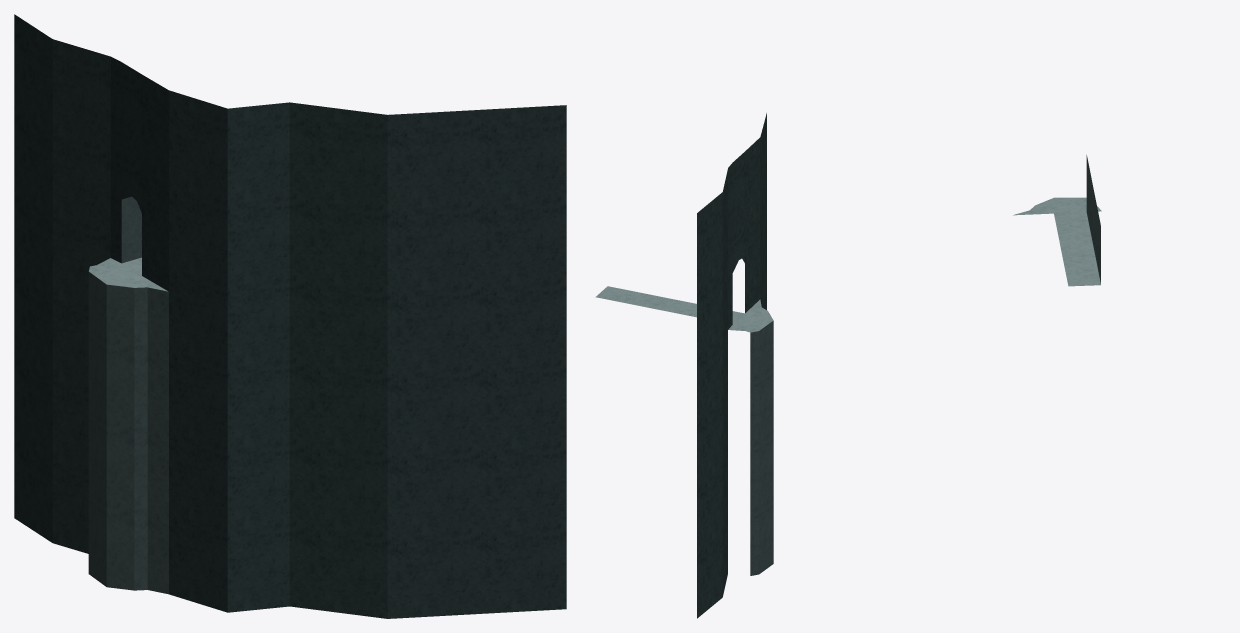
The model's file is mountain_cart_end.gltf.
3 views of the same model, side by side, from view 1: azimuth 30°, elevation 25°; view 2: azimuth 150°, elevation 25°; view 3: azimuth 270°, elevation 25° (orthographic). The views are drawn at different scales.
Parts seen in each view (by area): view 1: root; view 2: root; view 3: root.
Boxes of the visible parts, x1,y1,x2,y2 form: root: (14, 14, 566, 618); root: (595, 113, 773, 618); root: (1013, 155, 1101, 286).
Bounding box in the file's own units: 61.95 × 92.51 × 77.02.
Materials: 3 (3 with a texture image).
